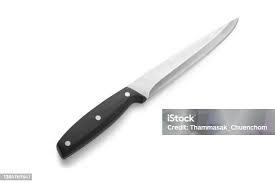Knife: (55, 16, 239, 159)
